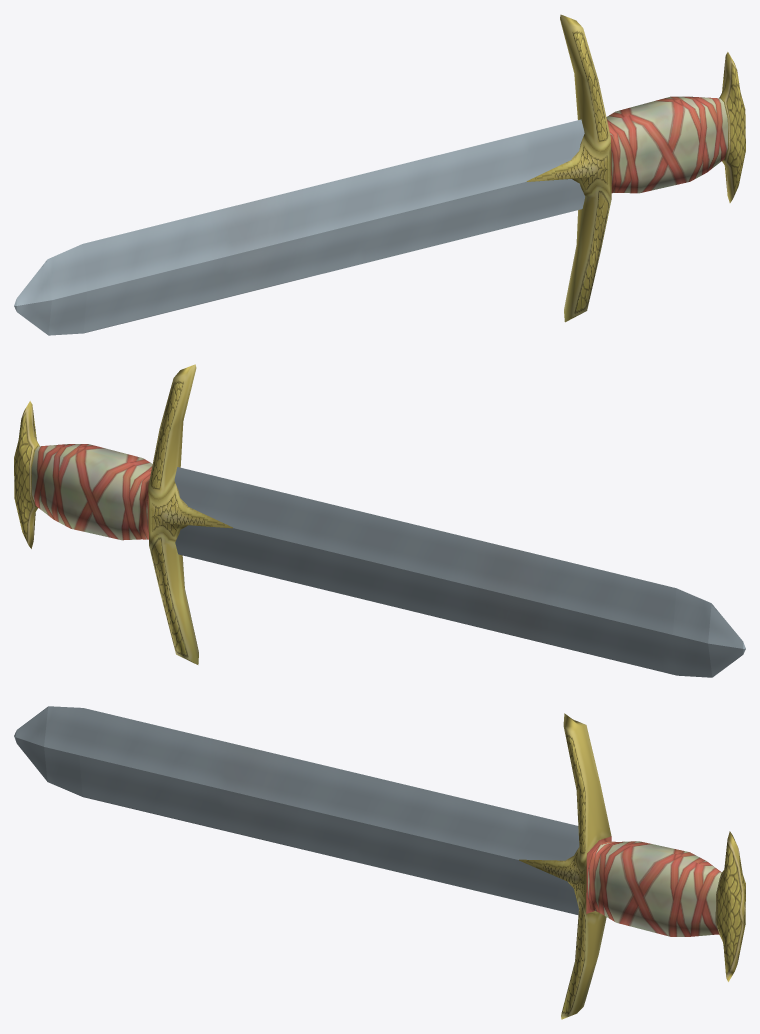
Rendered from BattleReadyBlade.FBX.
3 renders of one model, top to bottom at view 1: azimuth 30°, elevation 25°; view 2: azimuth 150°, elevation 25°; view 3: azimuth 330°, elevation 25°, orthographic.
Visible parts, largest first — view 1: Blade, Handle; view 2: Blade, Handle; view 3: Blade, Handle.
Part boxes in pixels (x1,y1,x2,y2): Blade: (14, 119, 585, 335); Handle: (526, 14, 745, 322); Blade: (174, 467, 745, 677); Handle: (14, 364, 232, 664); Blade: (14, 706, 579, 914); Handle: (519, 713, 745, 1019).
Size of the model in its own units: 131 by 9.85 by 52.17.
Materials: 2 (2 with a texture image).
